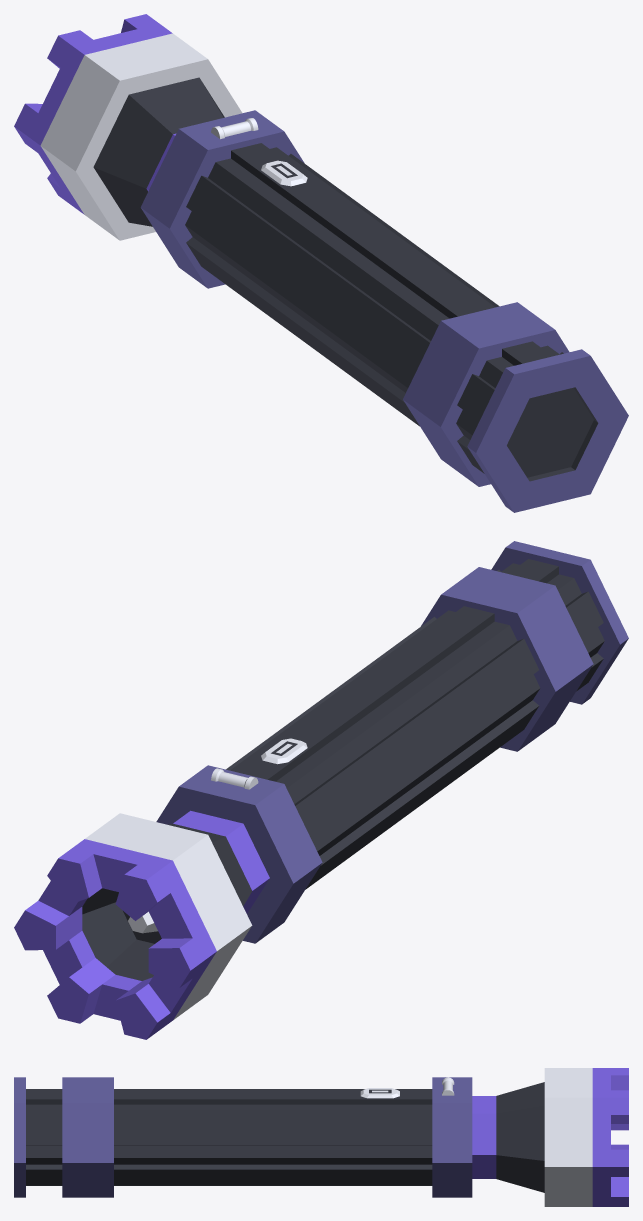
File: hilt.glb
The picture shows the model from 3 angles, top to bottom: view 1: azimuth 30°, elevation 25°; view 2: azimuth 150°, elevation 25°; view 3: azimuth 270°, elevation 25°; orthographic projection. The views are drawn at different scales.
Parts seen in each view (by area): view 1: mergedBlocks(Clone); view 2: mergedBlocks(Clone); view 3: mergedBlocks(Clone).
Boxes of the visible parts, x1,y1,x2,y2 form: mergedBlocks(Clone): [14, 14, 628, 512]; mergedBlocks(Clone): [14, 541, 628, 1039]; mergedBlocks(Clone): [14, 1068, 628, 1206].
Bounding box in the file's own units: 1.15 × 1 × 5.1.
